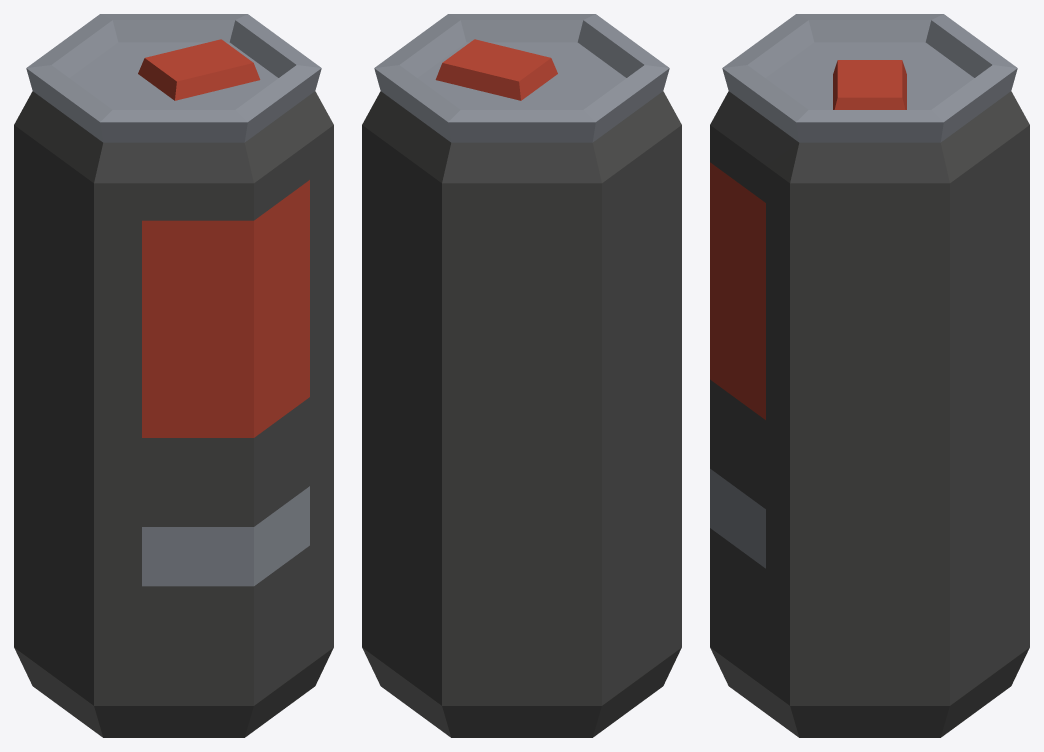
Rendered from SM_Item_Drink_01.fbx.
The picture shows the model from 3 angles, left to right: view 1: azimuth 30°, elevation 25°; view 2: azimuth 150°, elevation 25°; view 3: azimuth 270°, elevation 25°; orthographic projection.
Visible parts, largest first — view 1: SM_Item_Drink_01; view 2: SM_Item_Drink_01; view 3: SM_Item_Drink_01.
Boxes of the visible parts, box(x1,y1,x2,y2) form: SM_Item_Drink_01: box(14, 14, 333, 737); SM_Item_Drink_01: box(362, 14, 681, 737); SM_Item_Drink_01: box(710, 14, 1029, 737).
Size of the model in its own units: 10 by 24.74 by 11.55.
